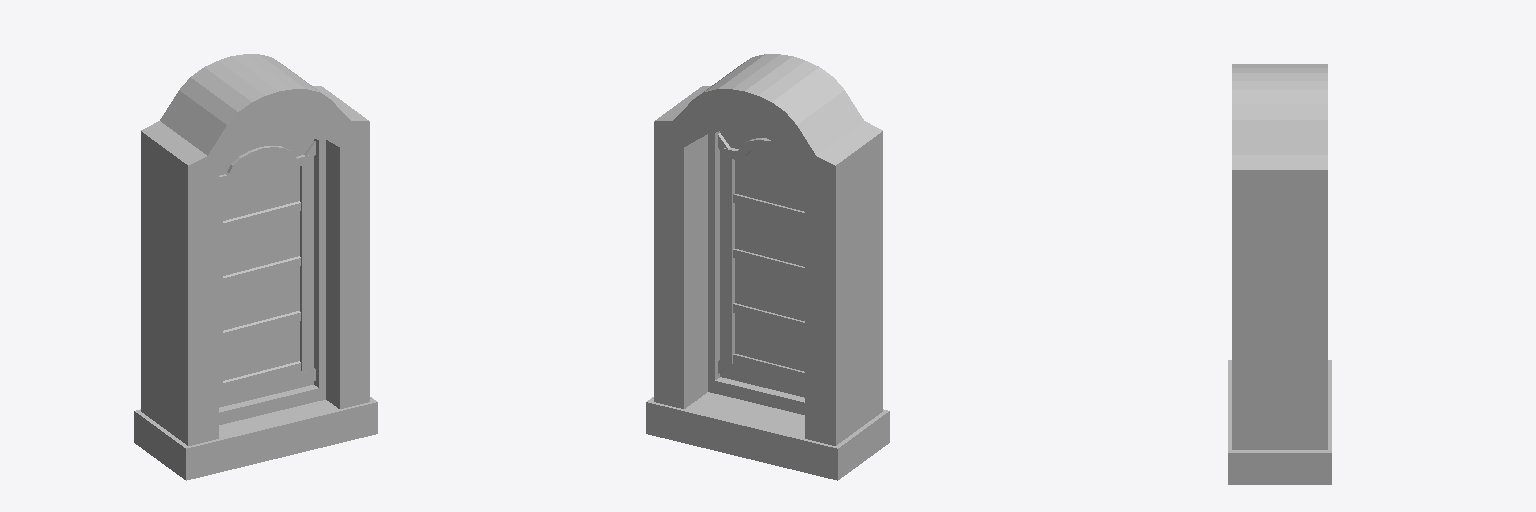
File: Window_Thin_Round3.obj
3 views of the same model, side by side, from view 1: azimuth 30°, elevation 25°; view 2: azimuth 150°, elevation 25°; view 3: azimuth 270°, elevation 25° (orthographic).
Visible parts, largest first — view 1: Window_Thin_Round3; view 2: Window_Thin_Round3; view 3: Window_Thin_Round3.
Part boxes in pixels (left/top/right/bottom): Window_Thin_Round3: left=134, top=54, right=377, bottom=480; Window_Thin_Round3: left=646, top=54, right=889, bottom=480; Window_Thin_Round3: left=1228, top=64, right=1331, bottom=484.
Bounding box in the file's own units: 0.883 × 1.61 × 0.4135.